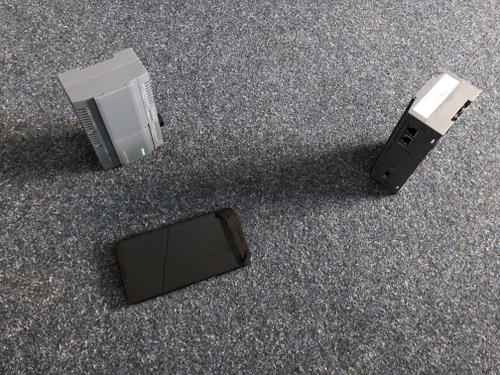device: (370, 71, 483, 195), (57, 48, 165, 171)
